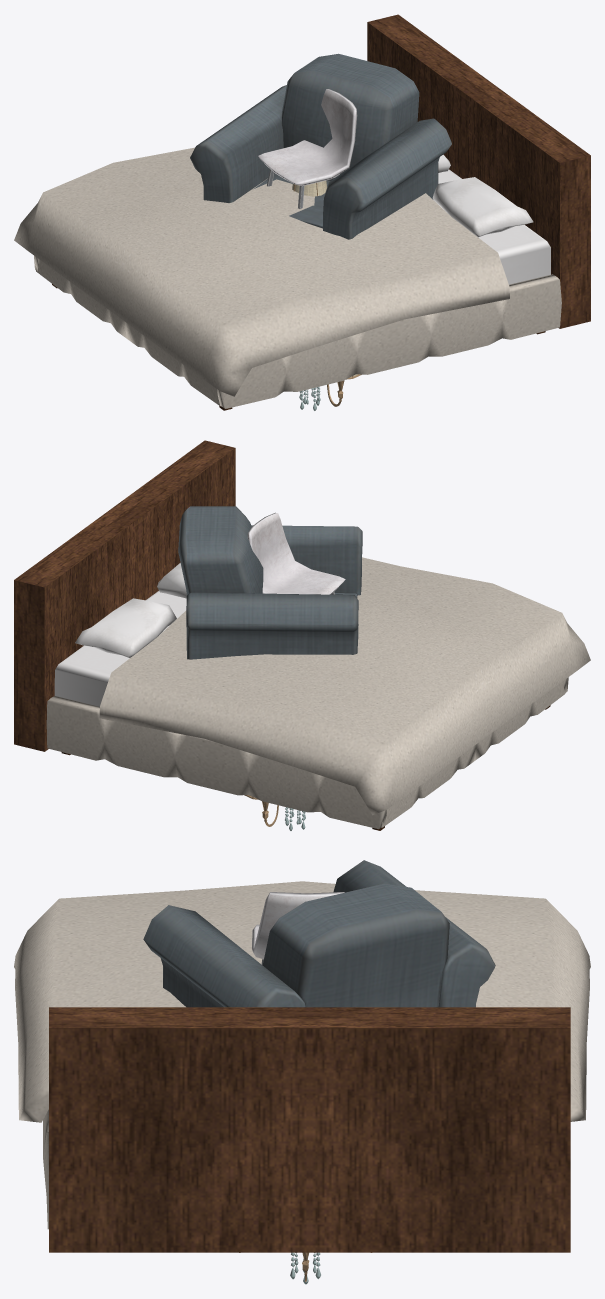
File: Deprivation_Props.fbx
3 views of the same model, one above another, from view 1: azimuth 30°, elevation 25°; view 2: azimuth 150°, elevation 25°; view 3: azimuth 270°, elevation 25° (orthographic). The views are drawn at different scales.
Parts seen in each view (by area): view 1: cube.018, cube.021, cube.044, cube.029; view 2: cube.018, cube.021, cube.044; view 3: cube.018, cube.021, cube.044.
Boxes of the visible parts, x1,y1,x2,y2 form: cube.018: [14, 14, 590, 410]; cube.021: [190, 53, 451, 239]; cube.044: [258, 89, 357, 208]; cube.029: [299, 374, 361, 410]; cube.018: [14, 440, 590, 830]; cube.021: [178, 506, 362, 659]; cube.044: [247, 512, 345, 594]; cube.018: [14, 881, 590, 1252]; cube.021: [143, 860, 495, 1007]; cube.044: [252, 892, 344, 964].
Bounding box in the file's own units: 203 × 157 × 196.
Materials: 1 (1 with a texture image).
